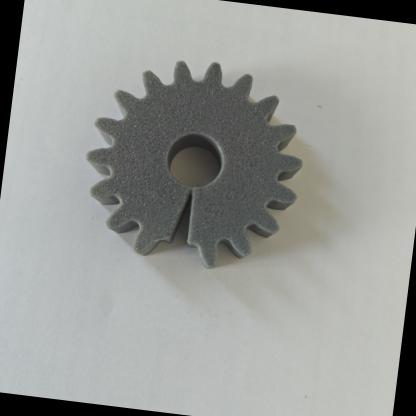defect: (138, 175, 240, 276)
gear: (57, 44, 322, 313)
